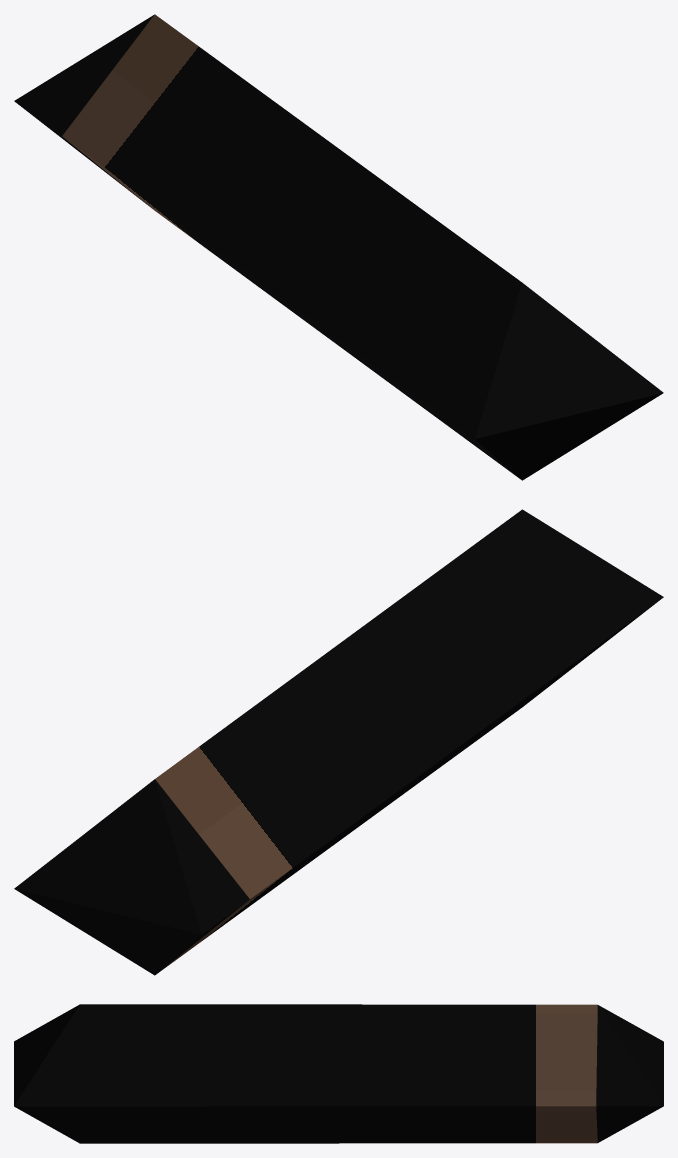
File: pine_thin_trunk_horizontal.obj
The picture shows the model from 3 angles, top to bottom: view 1: azimuth 30°, elevation 25°; view 2: azimuth 150°, elevation 25°; view 3: azimuth 270°, elevation 25°; orthographic projection. The views are drawn at different scales.
Visible parts, largest first — view 1: cube_selection_selection; view 2: cube_selection_selection; view 3: cube_selection_selection.
Part boxes in pixels (box(x1,y1,x2,y2)): cube_selection_selection: box(14, 14, 663, 480); cube_selection_selection: box(14, 509, 663, 975); cube_selection_selection: box(14, 1004, 663, 1143).
Size of the model in its own units: 0.3107 by 0.3104 by 1.31.
